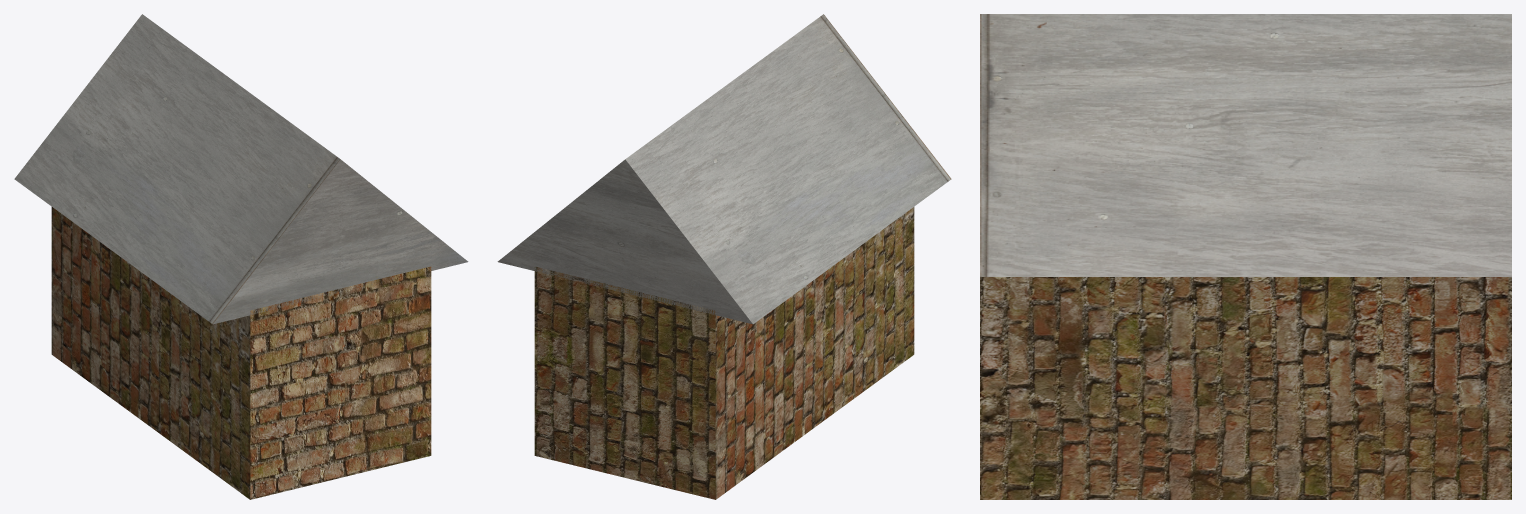
The model's file is houseOnGround.obj.
3 renders of one model, left to right at view 1: azimuth 30°, elevation 25°; view 2: azimuth 150°, elevation 25°; view 3: azimuth 270°, elevation 25°, orthographic. The views are drawn at different scales.
Visible parts, largest first — view 1: Cube.001_Cube.002, Cube_Cube.001; view 2: Cube.001_Cube.002, Cube_Cube.001; view 3: Cube.001_Cube.002, Cube_Cube.001.
Part boxes in pixels (x1,y1,x2,y2): Cube.001_Cube.002: (14, 14, 468, 324); Cube_Cube.001: (51, 207, 431, 499); Cube.001_Cube.002: (497, 14, 951, 324); Cube_Cube.001: (534, 207, 914, 499); Cube.001_Cube.002: (980, 14, 1511, 276); Cube_Cube.001: (980, 277, 1511, 499).
Size of what is drawn, in the model's own units: 2.83 by 3.36 by 3.8.
Materials: 2 (2 with a texture image).
